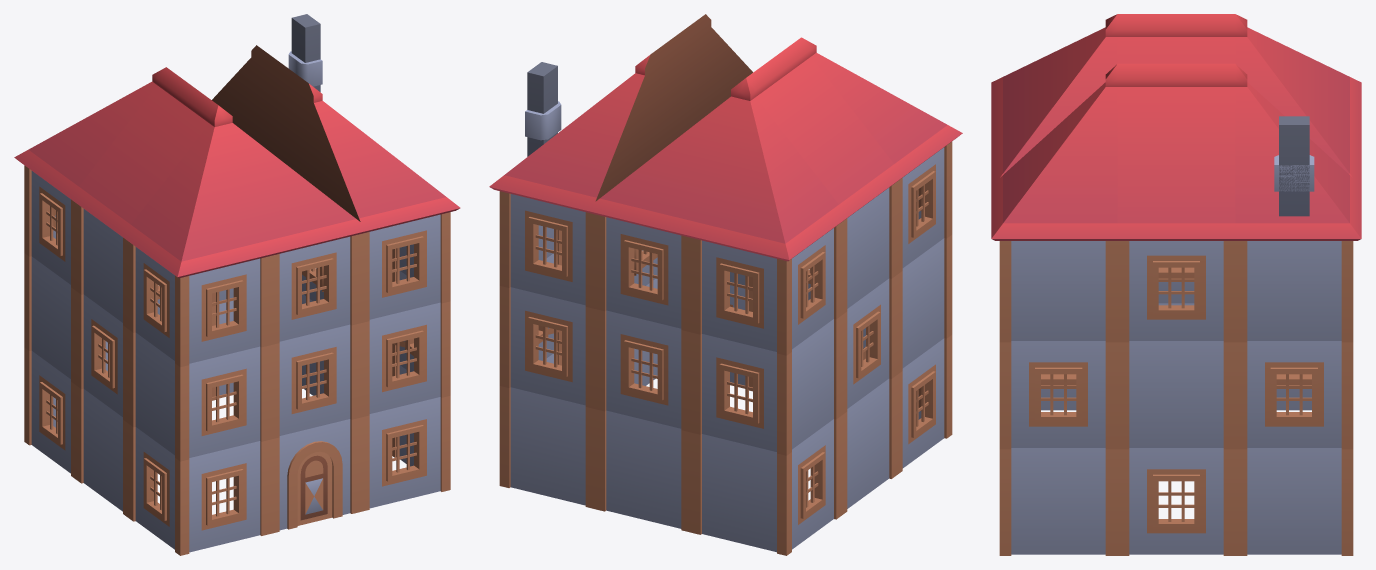
File: merchant_house.glb
3 views of the same model, side by side, from view 1: azimuth 30°, elevation 25°; view 2: azimuth 150°, elevation 25°; view 3: azimuth 270°, elevation 25° (orthographic). The views are drawn at different scales.
Parts seen in each view (by area): view 1: merchant_house; view 2: merchant_house; view 3: merchant_house.
Boxes of the visible parts, x1,y1,x2,y2 form: merchant_house: [14, 14, 460, 555]; merchant_house: [489, 14, 962, 555]; merchant_house: [991, 14, 1361, 555].
Bounding box in the file's own units: 9.42 × 12.42 × 9.42.
46 materials, 46 textured.
